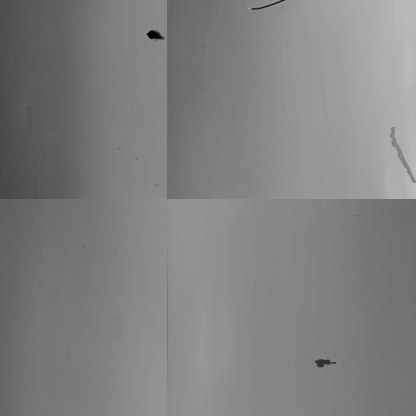fengxi: (384, 129, 415, 184), (246, 1, 297, 13)
kongdong: (312, 354, 337, 373), (144, 29, 165, 42)
